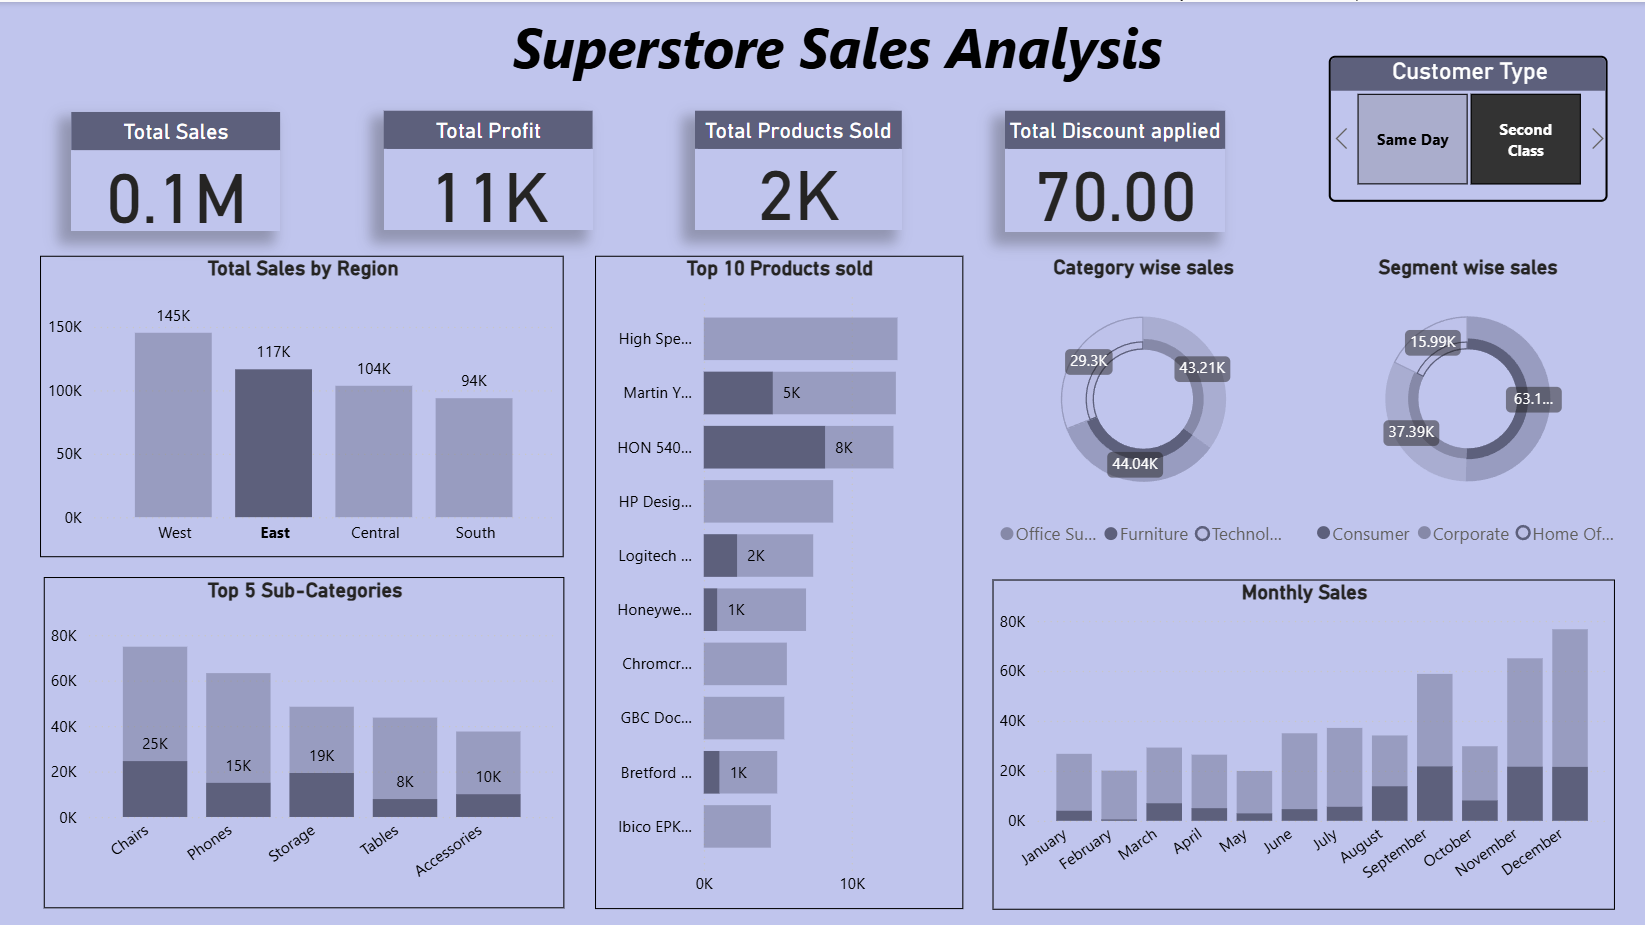

Layout of this report page (visuals, bound fields, positions):
{"tool":"powerbi","page":{"name":"Page 1","canvas":[1280,720],"ordinal":0},"visuals":[{"type":"columnChart","title":"Total Sales by Region","fields":{"Category":["Orders.Region"],"Y":["Sum(Orders.Sales)"]},"box":[31.6,197.6,407.5,234.6],"z":0},{"type":"columnChart","title":"Monthly Sales","fields":{"Category":["Orders.Order Date.Variation.Date Hierarchy.Month"],"Y":["Sum(Orders.Sales)"]},"box":[772.1,448.8,483.7,257],"z":1000},{"type":"donutChart","title":"Segment wise sales","fields":{"Category":["Orders.Segment"],"Y":["Sum(Orders.Sales)"]},"box":[1016.8,197.6,249.7,234.6],"z":2000},{"type":"columnChart","title":"Top 5 Sub-Categories","fields":{"Y":["Sum(Orders.Sales)"],"Category":["Orders.Sub-Category"]},"box":[34.3,447.3,404.8,258],"z":3000},{"type":"card","title":"Total Profit","fields":{"Values":["Sum(Orders.Profit)"]},"box":[298.4,84.6,162.8,93],"z":4000,"group":"g2"},{"type":"card","title":"Total Products Sold","fields":{"Values":["Sum(Orders.Quantity)"]},"box":[540.4,84.6,160.5,93],"z":4000,"group":"g3"},{"type":"card","title":"Total Sales","fields":{"Values":["Sum(Orders.Sales)"]},"box":[55.4,85.5,162.8,93],"z":4000,"group":"g1"},{"type":"donutChart","title":"Category wise sales","fields":{"Category":["Orders.Category"],"Y":["Sum(Orders.Sales)"]},"box":[764.9,197.3,248.8,235.2],"z":4000},{"type":"card","title":"Total Discount applied","fields":{"Values":["Sum(Orders.Discount)"]},"box":[781.4,84.6,171.1,94.3],"z":5000},{"type":"clusteredBarChart","title":"Top 10 Products sold","fields":{"Category":["Orders.Product Name"],"Y":["Sum(Orders.Sales)"]},"box":[462.8,197.7,286,508.1],"z":6000},{"type":"textbox","box":[384.9,0,532.6,68.6],"z":7000},{"type":"group","id":"g1","title":"Group 1","box":[55.4,85.5,163.3,94.3],"z":8000},{"type":"group","id":"g2","title":"Group 1","box":[298.4,84.6,164.3,94.3],"z":9000},{"type":"group","id":"g3","title":"Group 1","box":[540.4,84.6,160.4,94.3],"z":10000},{"type":"slicer","title":"Customer Type","fields":{"Values":["Orders.Ship Mode"]},"box":[1033.2,41.8,216.7,113.7],"z":11000}]}

Visuals, with their boxes in screenshot pixels (x1, y1, x2, y2), scaled from the page's 1280x720 canvas onto the 1645x925 screenshot:
"Total Sales by Region" columnChart: (41, 254, 564, 555)
"Monthly Sales" columnChart: (992, 577, 1614, 907)
"Segment wise sales" donutChart: (1307, 254, 1628, 555)
"Top 5 Sub-Categories" columnChart: (44, 575, 564, 906)
"Total Profit" card: (383, 109, 593, 228)
"Total Products Sold" card: (694, 109, 901, 228)
"Total Sales" card: (71, 110, 280, 229)
"Category wise sales" donutChart: (983, 253, 1303, 556)
"Total Discount applied" card: (1004, 109, 1224, 230)
"Top 10 Products sold" clusteredBarChart: (595, 254, 962, 907)
textbox: (495, 0, 1179, 88)
"Group 1" group: (71, 110, 281, 231)
"Group 1" group: (383, 109, 595, 230)
"Group 1" group: (694, 109, 901, 230)
"Customer Type" slicer: (1328, 54, 1606, 200)
